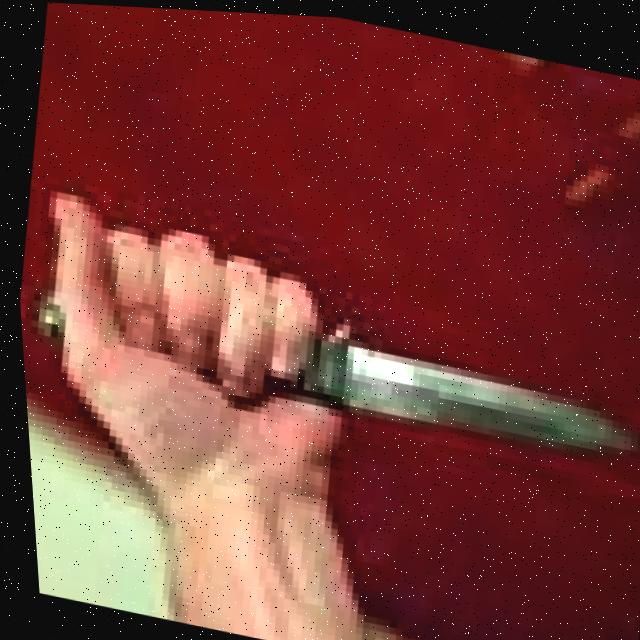knife: (305, 335, 640, 475)
